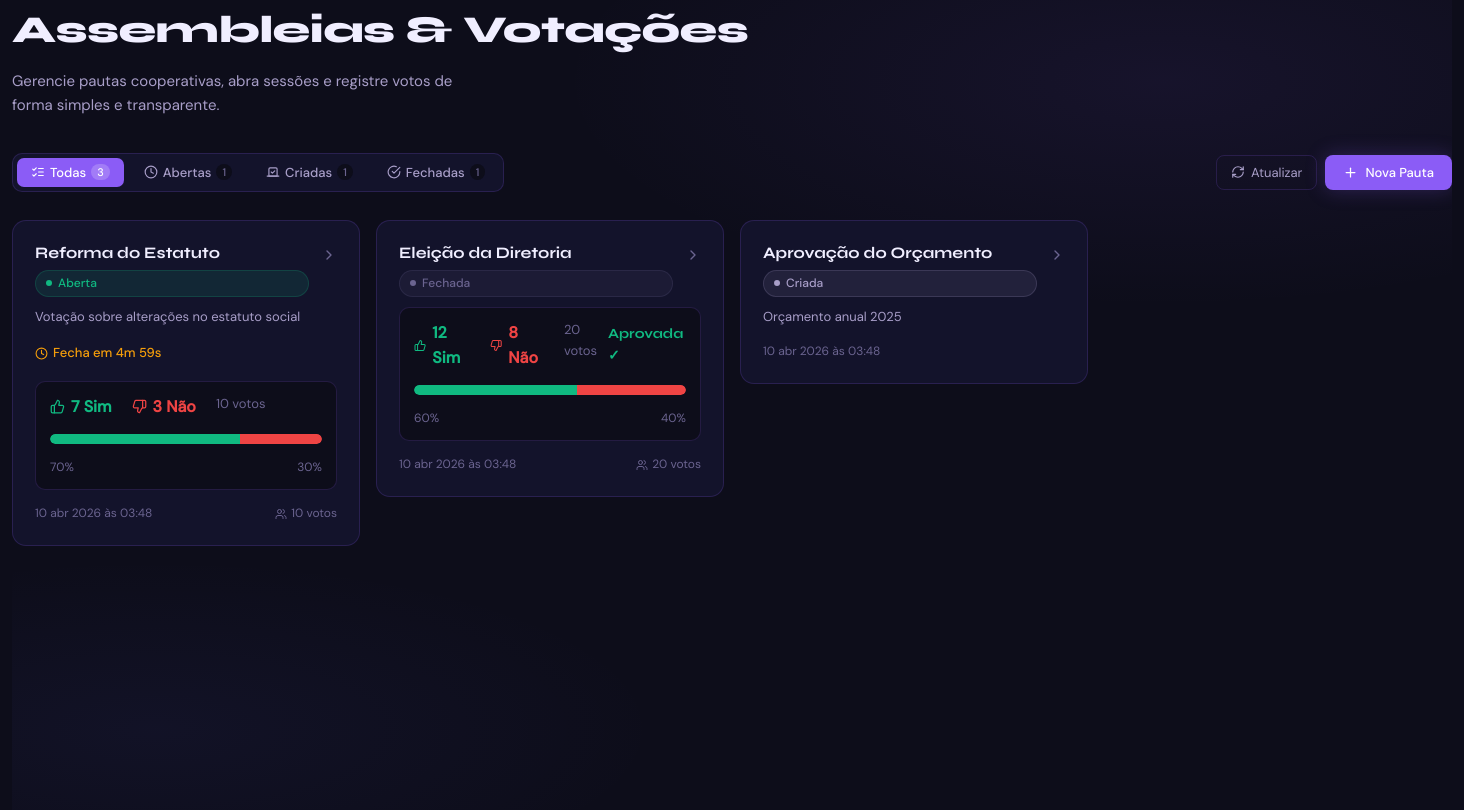
Test: HomePage › filters agendas by CLOSED status
This screenshot has width=1464, height=810.
expect the heading "Eleição da Diretoria" is shown: met, box [399,243,572,262]
Click the button "Fechadas 1" at (436, 172), box [373,158,499,187]
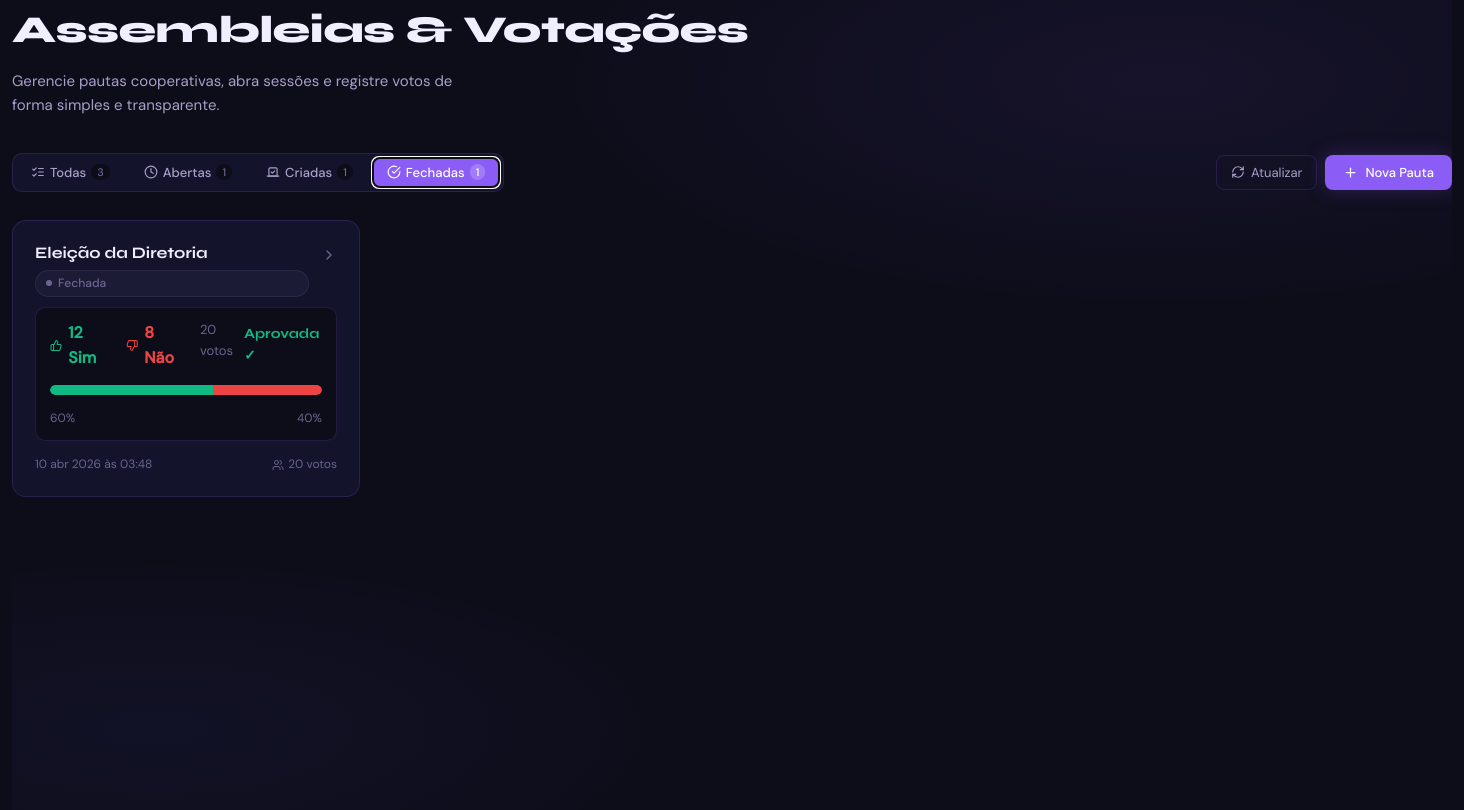
expect the heading "Eleição da Diretoria" is shown: met, box [35,243,208,262]
expect the heading "Reforma do Estatuto" is gone: met
